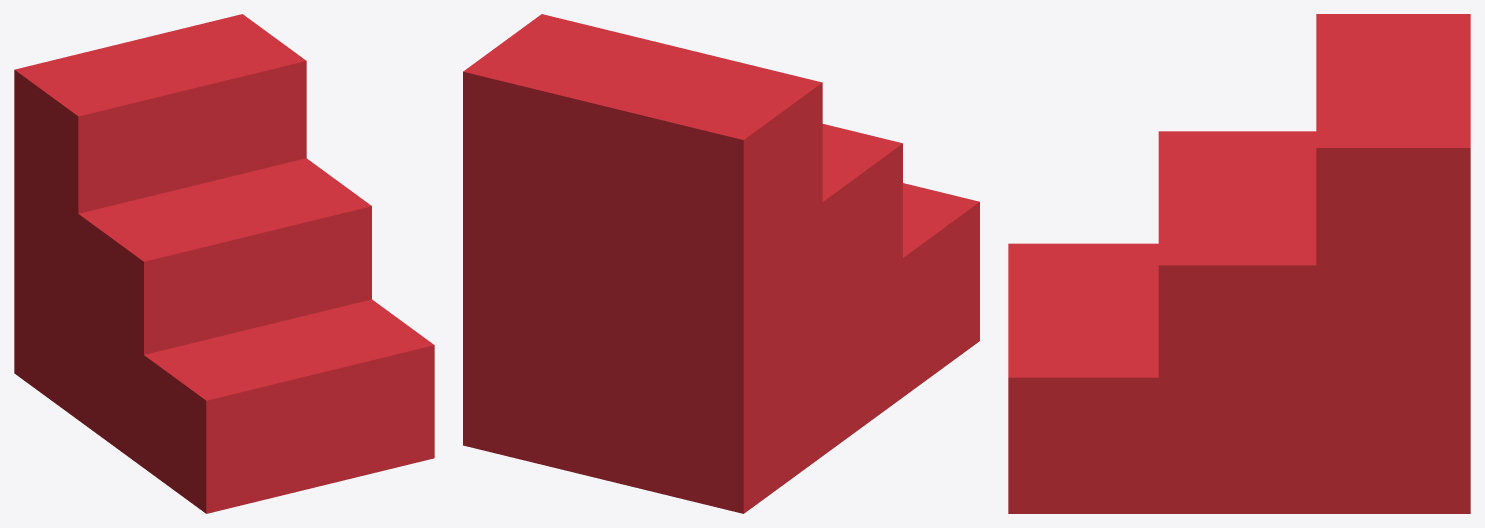
File: Plataformas_W_UV_.fbx
3 views of the same model, side by side, from view 1: azimuth 30°, elevation 25°; view 2: azimuth 150°, elevation 25°; view 3: azimuth 270°, elevation 25° (orthographic). The views are drawn at different scales.
Visible parts, largest first — view 1: Cube; view 2: Cube; view 3: Cube.
Boxes of the visible parts, bbox=[...] form: Cube: bbox=[14, 14, 434, 513]; Cube: bbox=[463, 14, 979, 513]; Cube: bbox=[1008, 14, 1470, 513].
Bounding box in the file's own units: 422 × 537 × 615.
